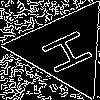H: (40, 23, 100, 76)
